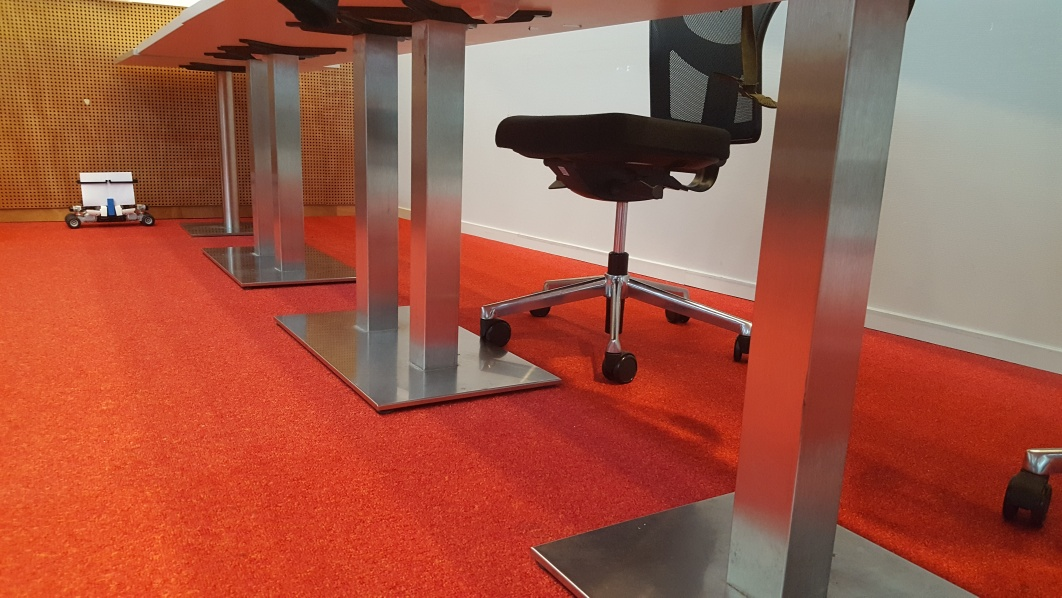car: (63, 168, 154, 229)
